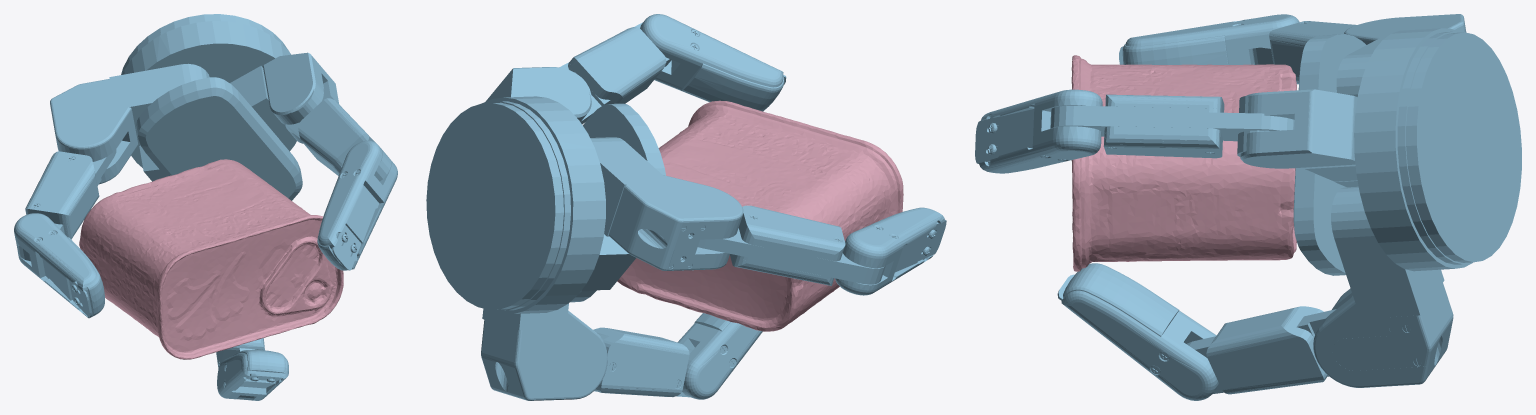
3 views of the same model, side by side, from view 1: azimuth 30°, elevation 25°; view 2: azimuth 150°, elevation 25°; view 3: azimuth 270°, elevation 25° (orthographic). The views are drawn at different scales.
Parts seen in each view (by area): view 1: world, potted_meat_can.stl; view 2: world, potted_meat_can.stl; view 3: world, potted_meat_can.stl.
Boxes of the visible parts, x1=… form: world: x1=14, y1=14, x2=397, y2=400; potted_meat_can.stl: x1=79, y1=159, x2=343, y2=359; world: x1=426, y1=14, x2=946, y2=400; potted_meat_can.stl: x1=617, y1=100, x2=903, y2=331; world: x1=975, y1=14, x2=1521, y2=400; potted_meat_can.stl: x1=1071, y1=55, x2=1296, y2=271.
Size of the model in its own units: 0.1854 by 0.1588 by 0.2019.
